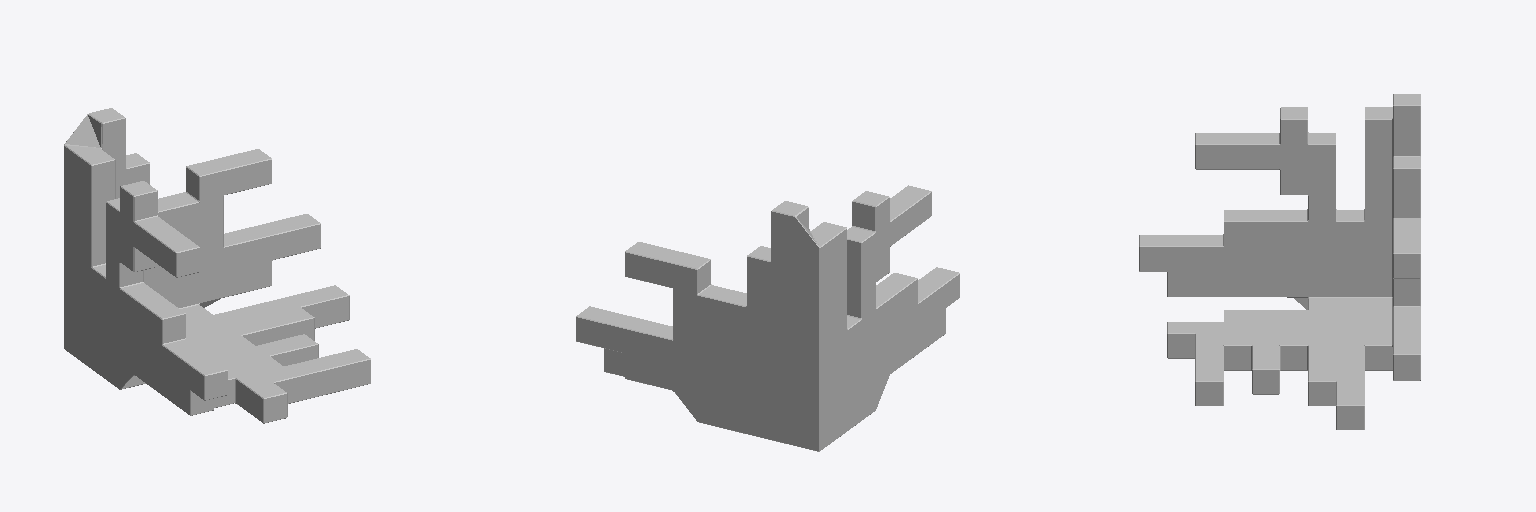
The model's file is PuzzleCube7.obj.
3 renders of one model, left to right at view 1: azimuth 30°, elevation 25°; view 2: azimuth 150°, elevation 25°; view 3: azimuth 270°, elevation 25°, orthographic.
Visible parts, largest first — view 1: Cube.007_Cube.010; view 2: Cube.007_Cube.010; view 3: Cube.007_Cube.010.
Part boxes in pixels (left/top/right/bottom): Cube.007_Cube.010: left=64, top=108, right=370, bottom=423; Cube.007_Cube.010: left=576, top=185, right=959, bottom=451; Cube.007_Cube.010: left=1139, top=94, right=1420, bottom=429.
Bounding box in the file's own units: 5 × 4.5 × 5.